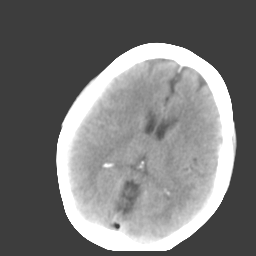ischemic: (69, 85, 134, 182)
